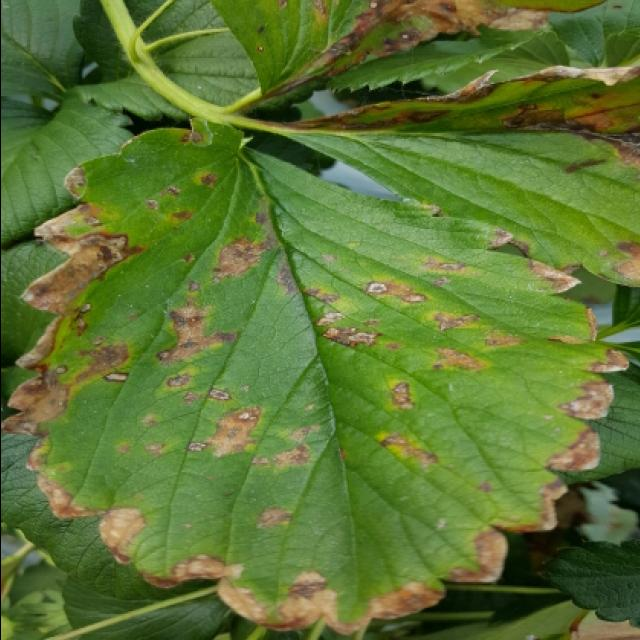Angular Leafspot: (2, 118, 631, 636), (262, 66, 640, 291), (209, 0, 609, 103)
